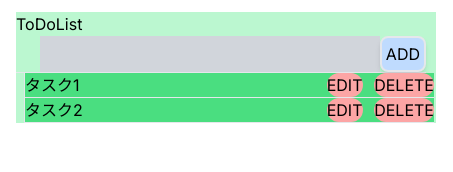
TodoApp › 入力が空の場合はタスクが追加されずエラーメッセージが表示される
Note: 入力を空にして送信
Clear the field named "ToDo": [210, 54] box x1=40 y1=36 x2=380 y2=72
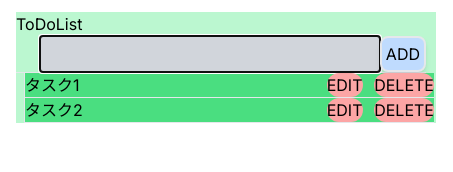
Click the button "ADD": [403, 54] box x1=380 y1=36 x2=426 y2=72
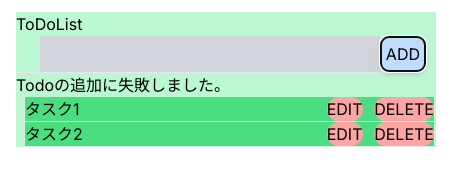
Result: the heading "Todoの追加に失敗しました。" is shown at x1=16 y1=75 x2=230 y2=95
